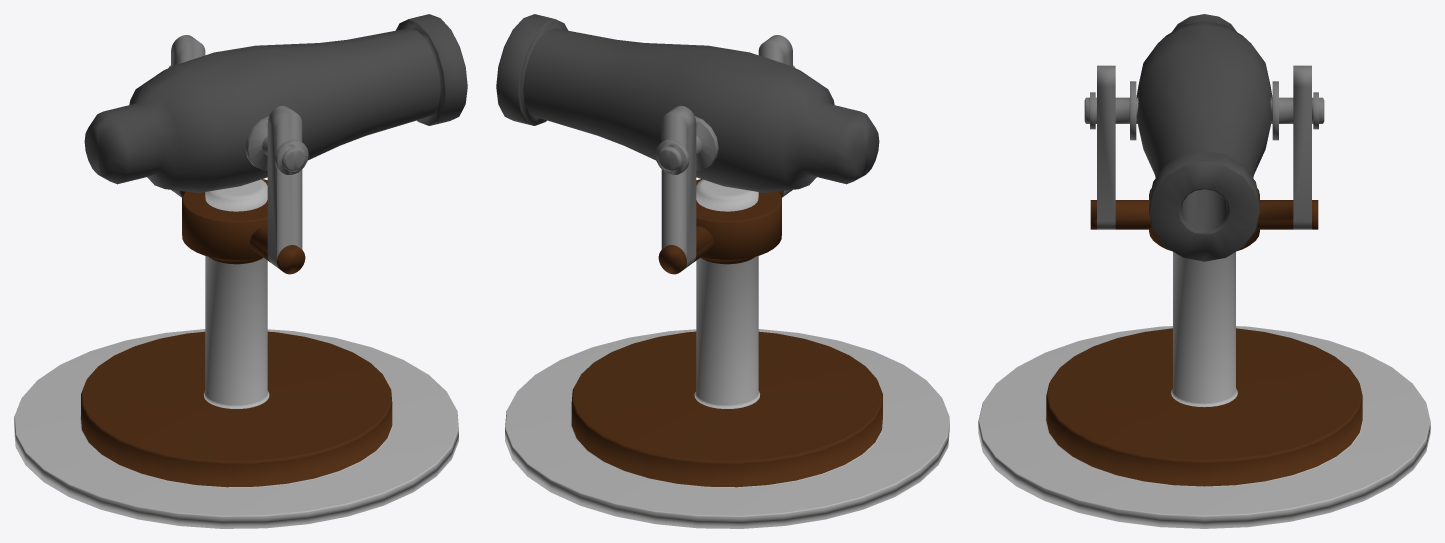
The model's file is Cannon Enemy 001.fbx.
3 views of the same model, side by side, from view 1: azimuth 30°, elevation 25°; view 2: azimuth 150°, elevation 25°; view 3: azimuth 270°, elevation 25° (orthographic).
Visible parts, largest first — view 1: Cylinder; view 2: Cylinder; view 3: Cylinder.
Boxes of the visible parts, x1,y1,x2,y2 form: Cylinder: (14, 14, 467, 528); Cylinder: (496, 14, 949, 528); Cylinder: (978, 14, 1430, 528).
Size of the model in its own units: 1256 by 1147 by 1220.
